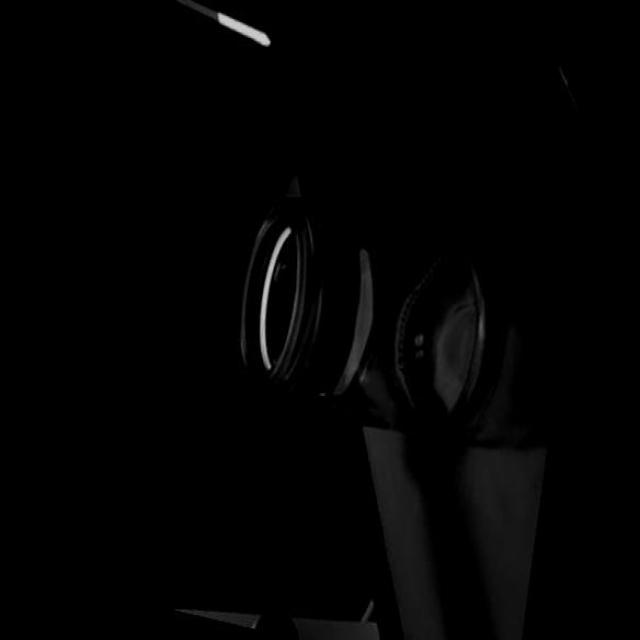defect: (316, 387, 328, 399)
glass: (215, 159, 512, 482)
